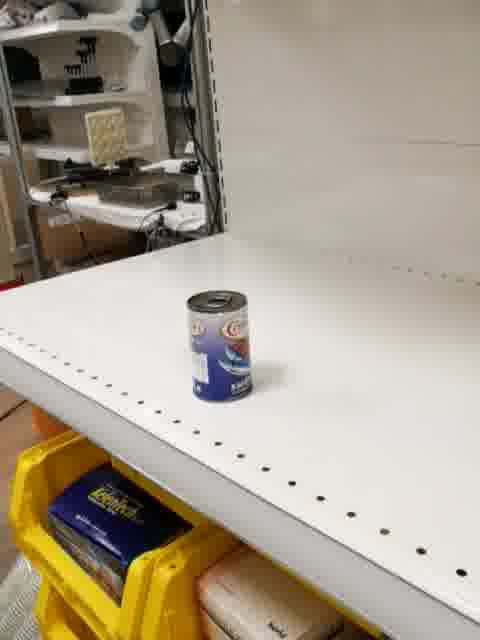sardine: (185, 287, 254, 404)
